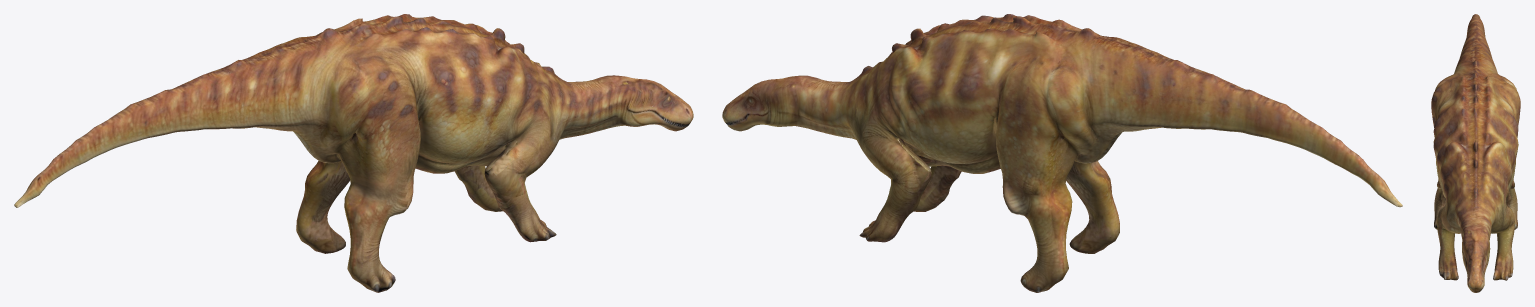
The model's file is 21 Gonkoken 3D.glb.
3 views of the same model, side by side, from view 1: azimuth 30°, elevation 25°; view 2: azimuth 150°, elevation 25°; view 3: azimuth 270°, elevation 25° (orthographic). The views are drawn at different scales.
Visible parts, largest first — view 1: Mesh0; view 2: Mesh0; view 3: Mesh0.
Part boxes in pixels (box(x1,y1,x2,y2)): Mesh0: box(14, 14, 693, 292); Mesh0: box(722, 14, 1402, 292); Mesh0: box(1431, 14, 1520, 292).
Bounding box in the file's own units: 19.46 × 6.8 × 3.43.
1 material, 1 textured.
